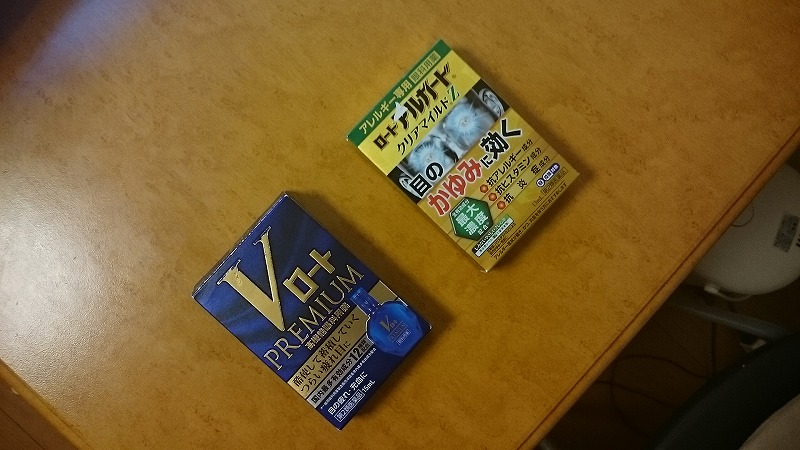C: (337, 35, 585, 274)
D: (185, 189, 434, 433)
